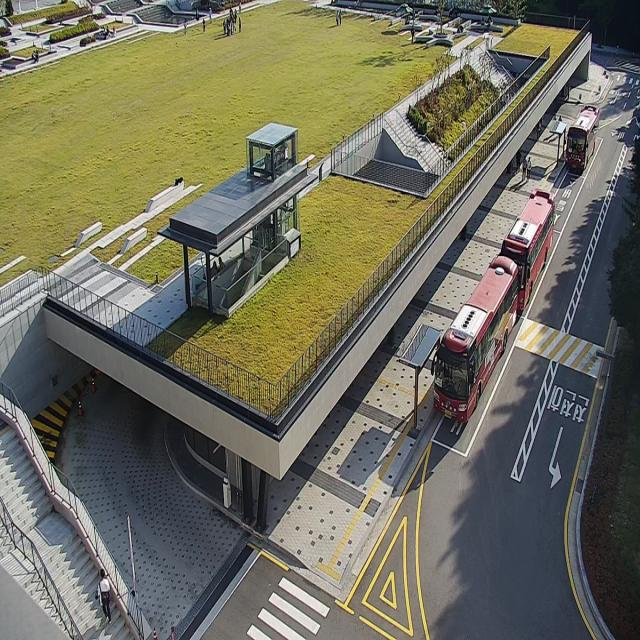queue: (414, 326, 440, 432)
